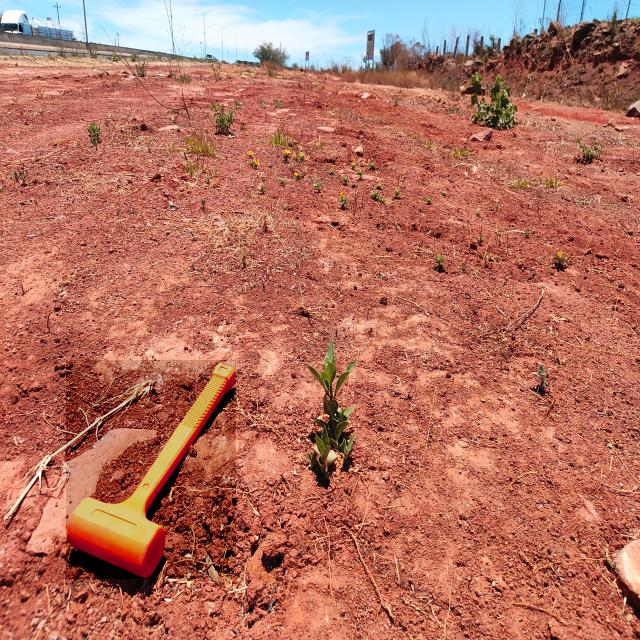Orange_hammer: (66, 360, 236, 579)
